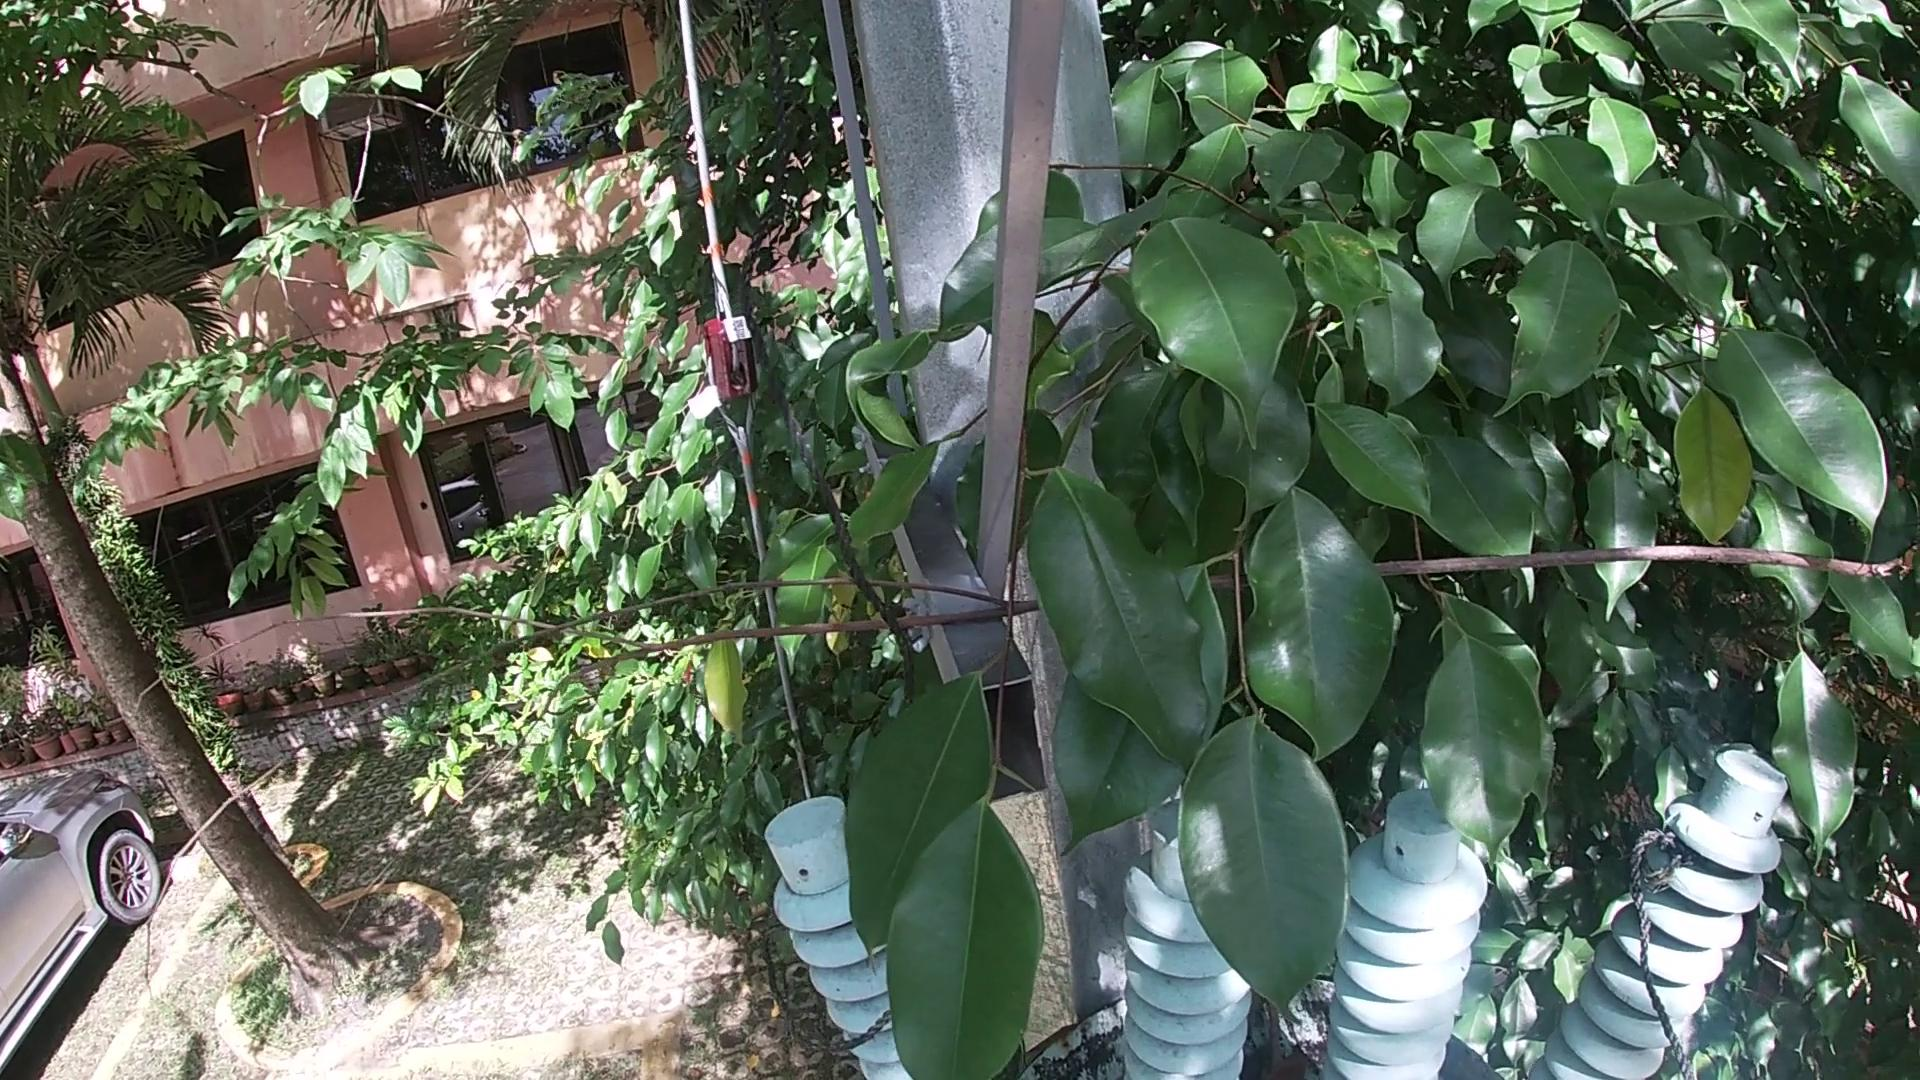tree branch: (1, 535, 1916, 1022)
